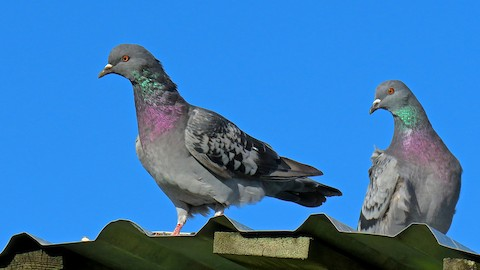pigeon: (95, 43, 347, 238), (356, 79, 464, 243)
